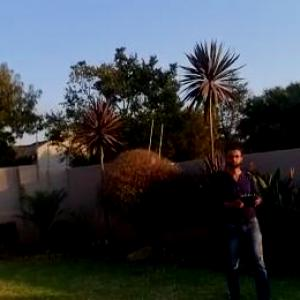follow: (206, 136, 284, 299)
